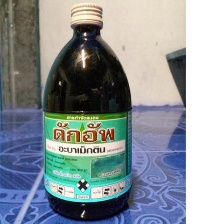insecticide: (38, 0, 136, 223)
